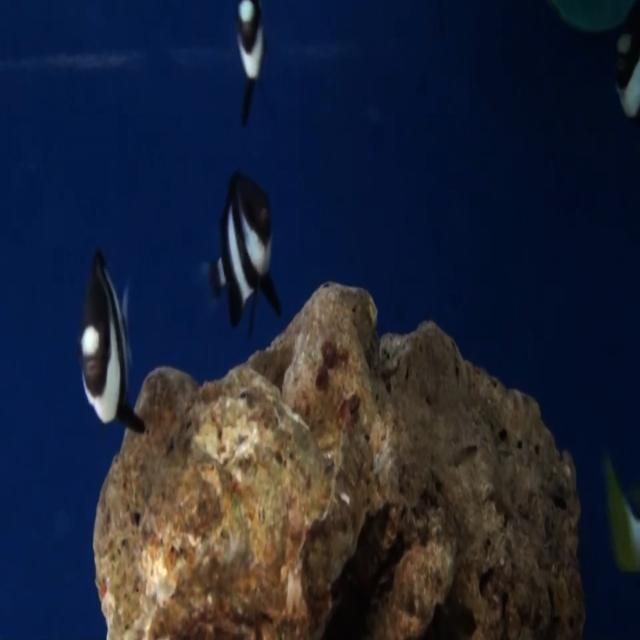ThreeStripedDamselfish: (78, 248, 145, 433), (203, 172, 280, 328)
